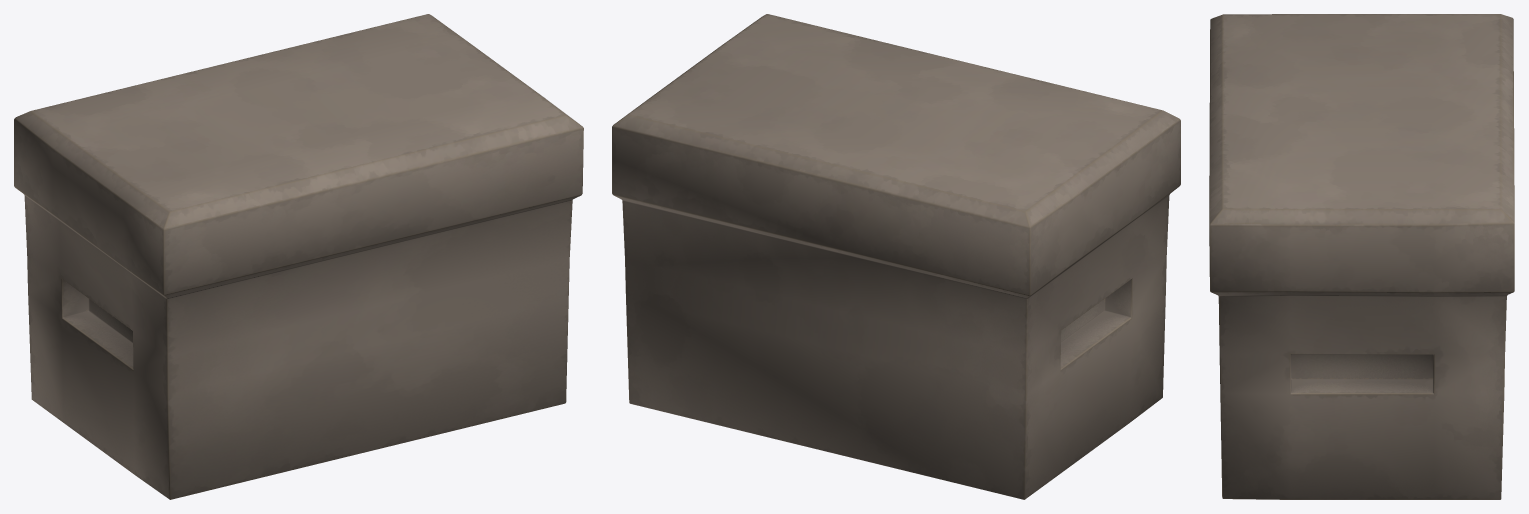
Rendered from paperBox1.fbx.
3 renders of one model, left to right at view 1: azimuth 30°, elevation 25°; view 2: azimuth 150°, elevation 25°; view 3: azimuth 270°, elevation 25°, orthographic.
Visible parts, largest first — view 1: small_box_02; view 2: small_box_02; view 3: small_box_02.
Part boxes in pixels (x1,y1,x2,y2): small_box_02: [14, 14, 583, 499]; small_box_02: [612, 14, 1180, 499]; small_box_02: [1209, 14, 1514, 499].
Size of the model in its own units: 51.46 by 33.81 by 32.12.
1 material, 1 textured.
